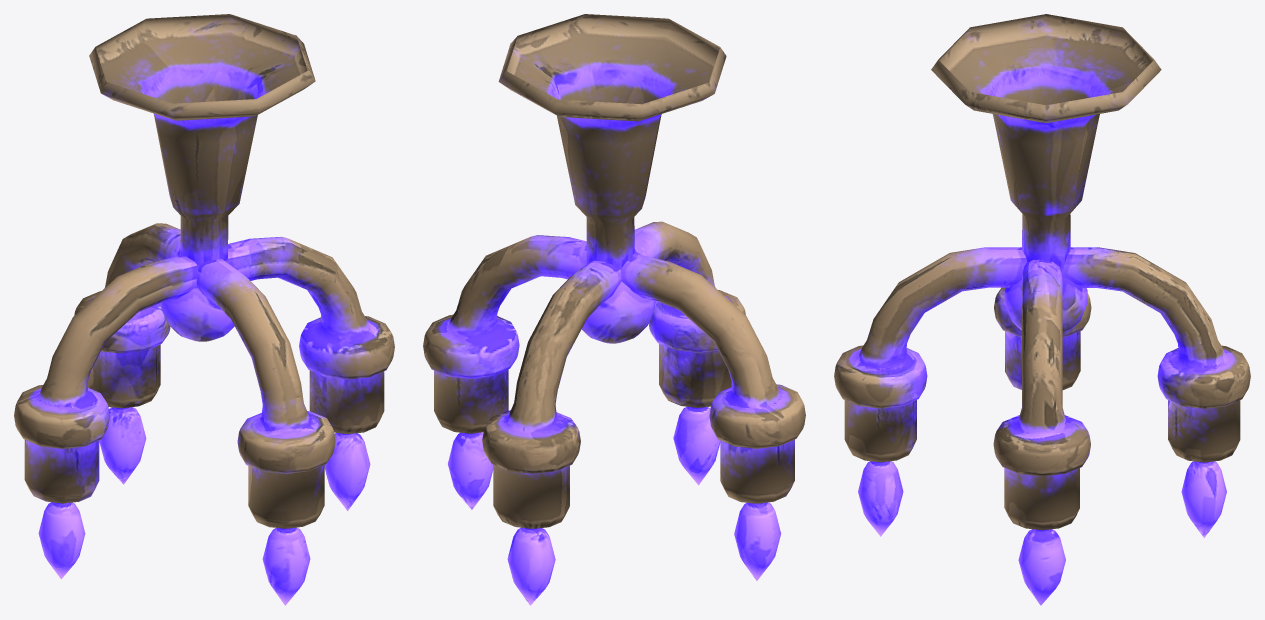
The model's file is candelabro.fbx.
3 views of the same model, side by side, from view 1: azimuth 30°, elevation 25°; view 2: azimuth 150°, elevation 25°; view 3: azimuth 270°, elevation 25° (orthographic). The views are drawn at different scales.
Visible parts, largest first — view 1: CEILINGLIGHT; view 2: CEILINGLIGHT; view 3: CEILINGLIGHT.
Part boxes in pixels (left/top/right/bottom): CEILINGLIGHT: left=14, top=14, right=394, bottom=605; CEILINGLIGHT: left=423, top=14, right=805, bottom=605; CEILINGLIGHT: left=834, top=14, right=1250, bottom=605.
Bounding box in the file's own units: 32.15 × 40.63 × 32.15.
